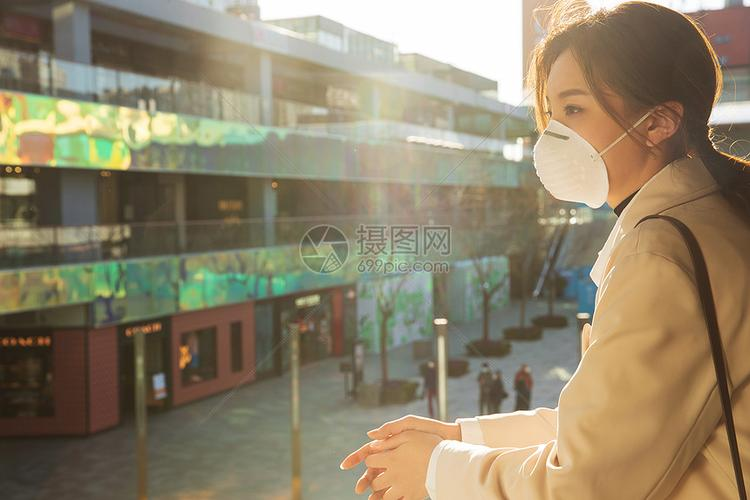mask: (525, 37, 674, 222)
